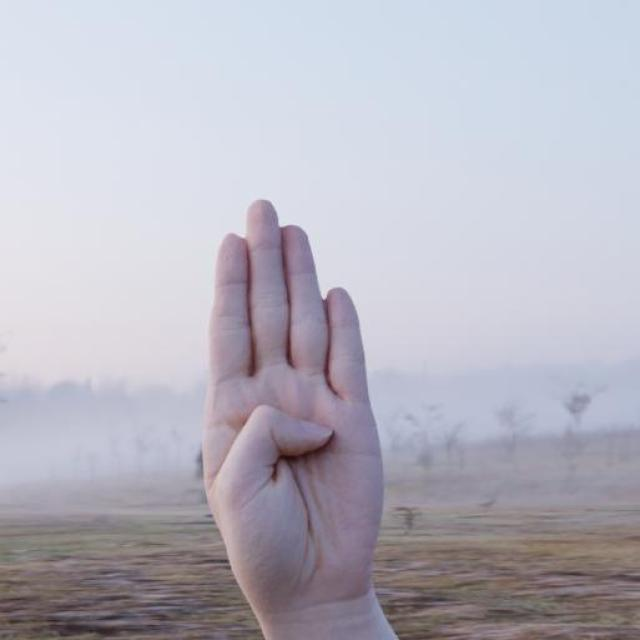B: (198, 193, 387, 602)
